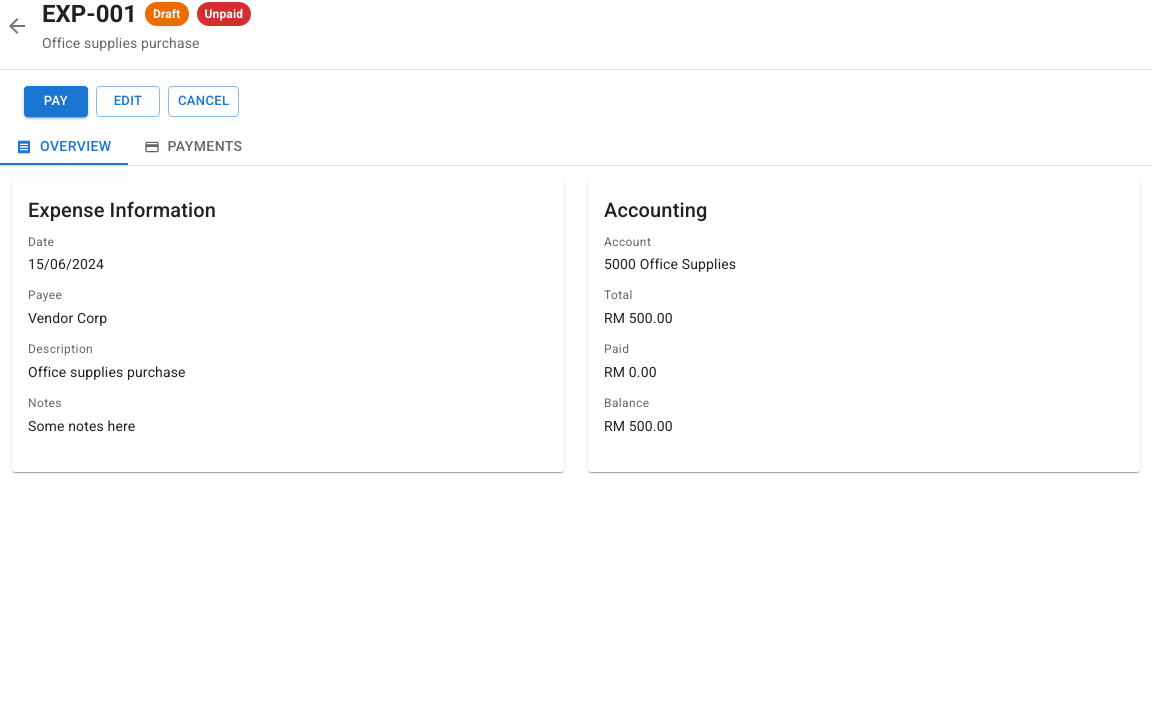
ExpenseDetailPage › action wiring › opens ConfirmationDialog when Cancel is clicked
Click the button "Cancel": (204, 101) [168,86,239,117]
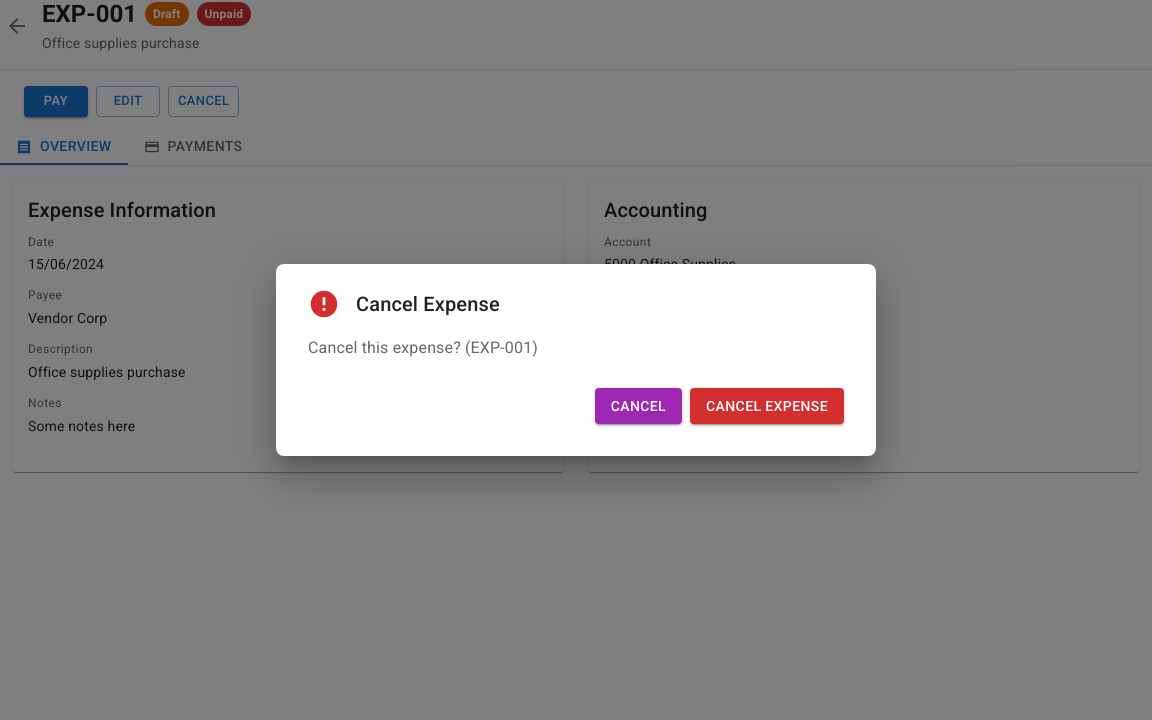
Expected: the text "Cancel this expense? (EXP-001)" is shown, [308,338,538,357]
